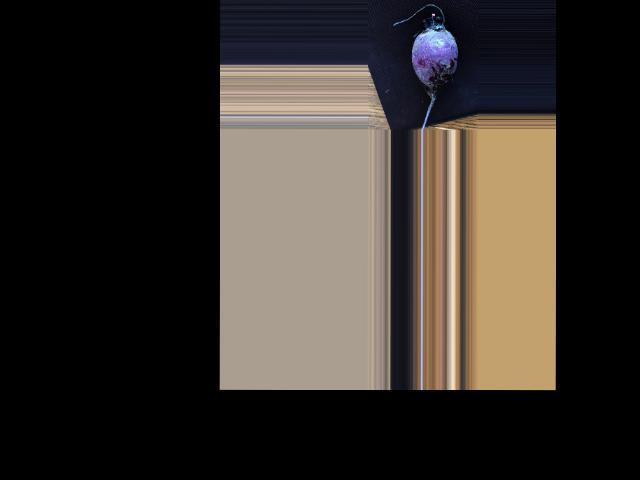beet: (393, 4, 459, 130)
